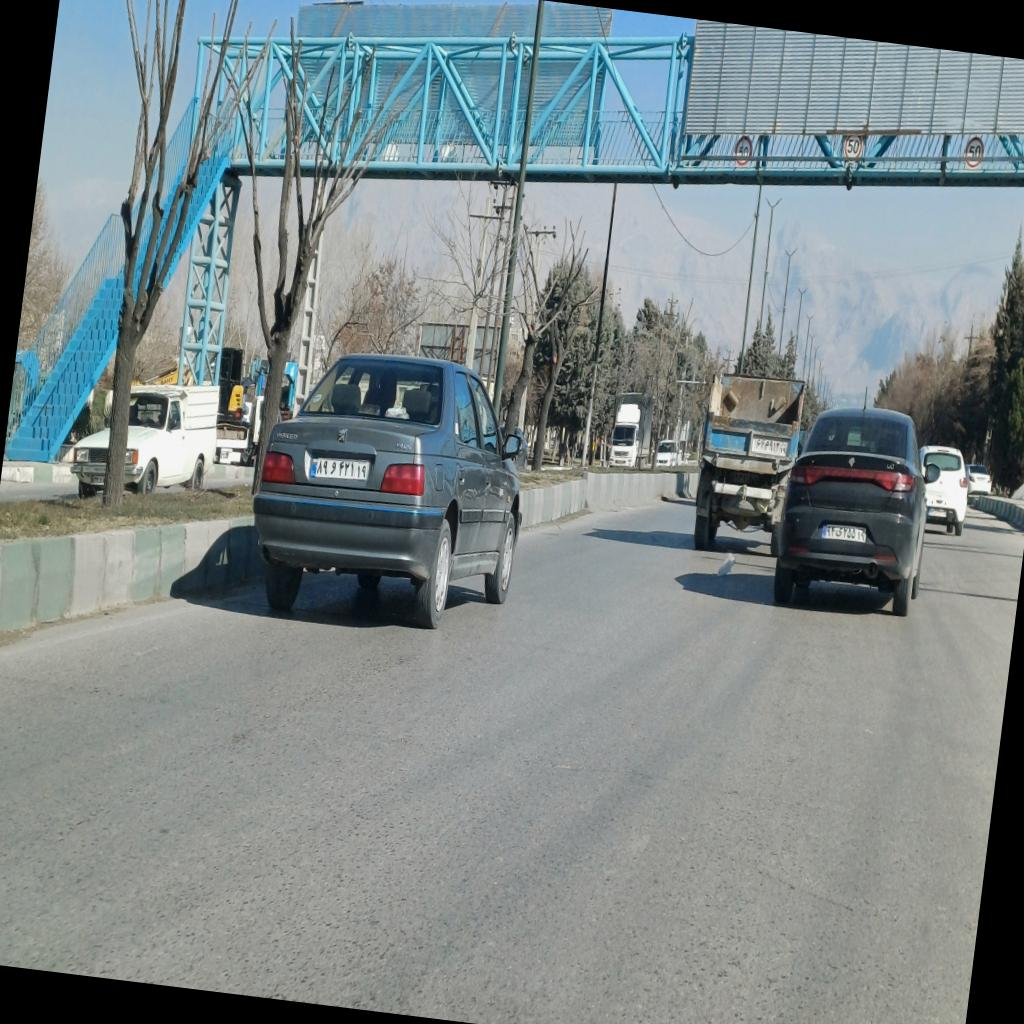Plates: (309, 452, 370, 482), (819, 520, 868, 542)
